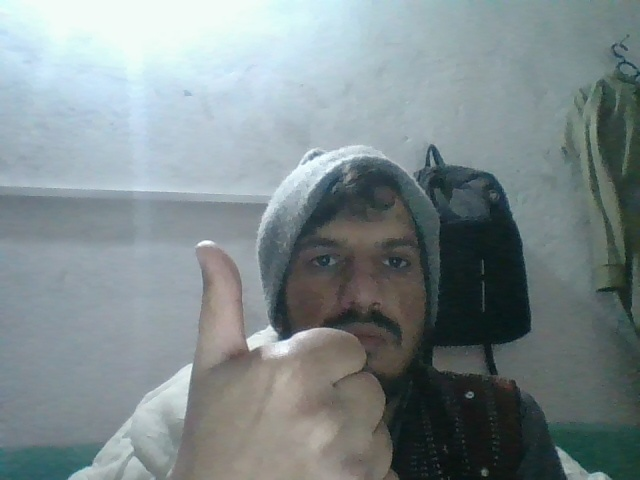ThumbsUp: (177, 235, 410, 480)
